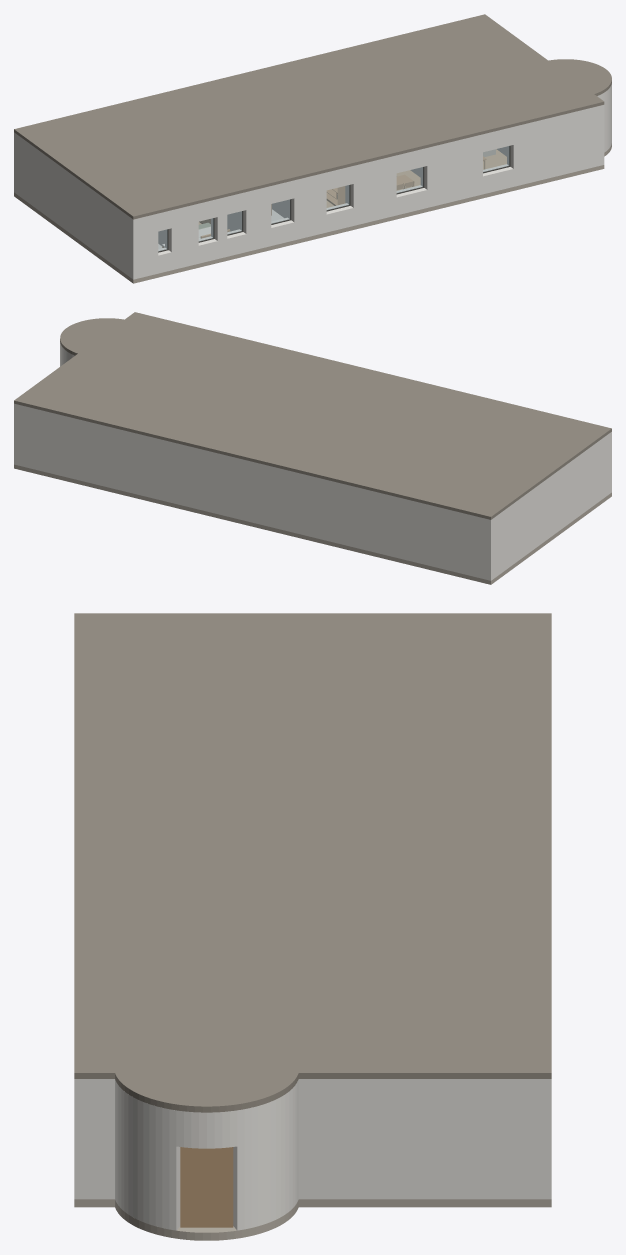
Rendered from plan.glb.
The picture shows the model from 3 angles, top to bottom: view 1: azimuth 30°, elevation 25°; view 2: azimuth 150°, elevation 25°; view 3: azimuth 270°, elevation 25°; orthographic projection. The views are drawn at different scales.
Parts seen in each view (by area): view 1: roof:roof, wall:w_garden, wall:w_west, slab:slab, window:win_parlour:glass, window:win_dining:glass, wall:w_porch, window:win_study:glass, wall:w_hill, window:win_kitchen:glass; view 2: roof:roof, wall:w_hill, wall:w_west, slab:slab; view 3: roof:roof, wall:w_east_n, wall:w_porch, slab:slab, door:d_front, wall:w_garden, wall:w_hill, wall:w_east_s.
Boxes of the visible parts, x1=… form: roof:roof: x1=14, y1=14, x2=611, y2=219; wall:w_garden: x1=145, y1=105, x2=604, y2=276; wall:w_west: x1=20, y1=137, x2=144, y2=279; slab:slab: x1=14, y1=143, x2=611, y2=283; window:win_parlour:glass: x1=483, y1=146, x2=509, y2=171; window:win_dining:glass: x1=397, y1=167, x2=422, y2=192; wall:w_porch: x1=597, y1=83, x2=611, y2=152; window:win_study:glass: x1=327, y1=185, x2=349, y2=209; wall:w_hill: x1=14, y1=132, x2=20, y2=196; window:win_kitchen:glass: x1=271, y1=199, x2=289, y2=223; roof:roof: x1=14, y1=312, x2=611, y2=519; wall:w_hill: x1=14, y1=403, x2=497, y2=580; wall:w_west: x1=497, y1=432, x2=611, y2=575; slab:slab: x1=14, y1=464, x2=611, y2=584; roof:roof: x1=74, y1=613, x2=551, y2=1112; wall:w_east_n: x1=298, y1=1079, x2=525, y2=1199; wall:w_porch: x1=115, y1=1079, x2=298, y2=1230; slab:slab: x1=74, y1=1199, x2=551, y2=1240; door:d_front: x1=180, y1=1147, x2=233, y2=1227; wall:w_garden: x1=74, y1=1079, x2=100, y2=1199; wall:w_hill: x1=525, y1=1079, x2=551, y2=1199; wall:w_east_s: x1=100, y1=1079, x2=114, y2=1199.
Bounding box in the file's own units: 26.4 × 3.35 × 10.8.
